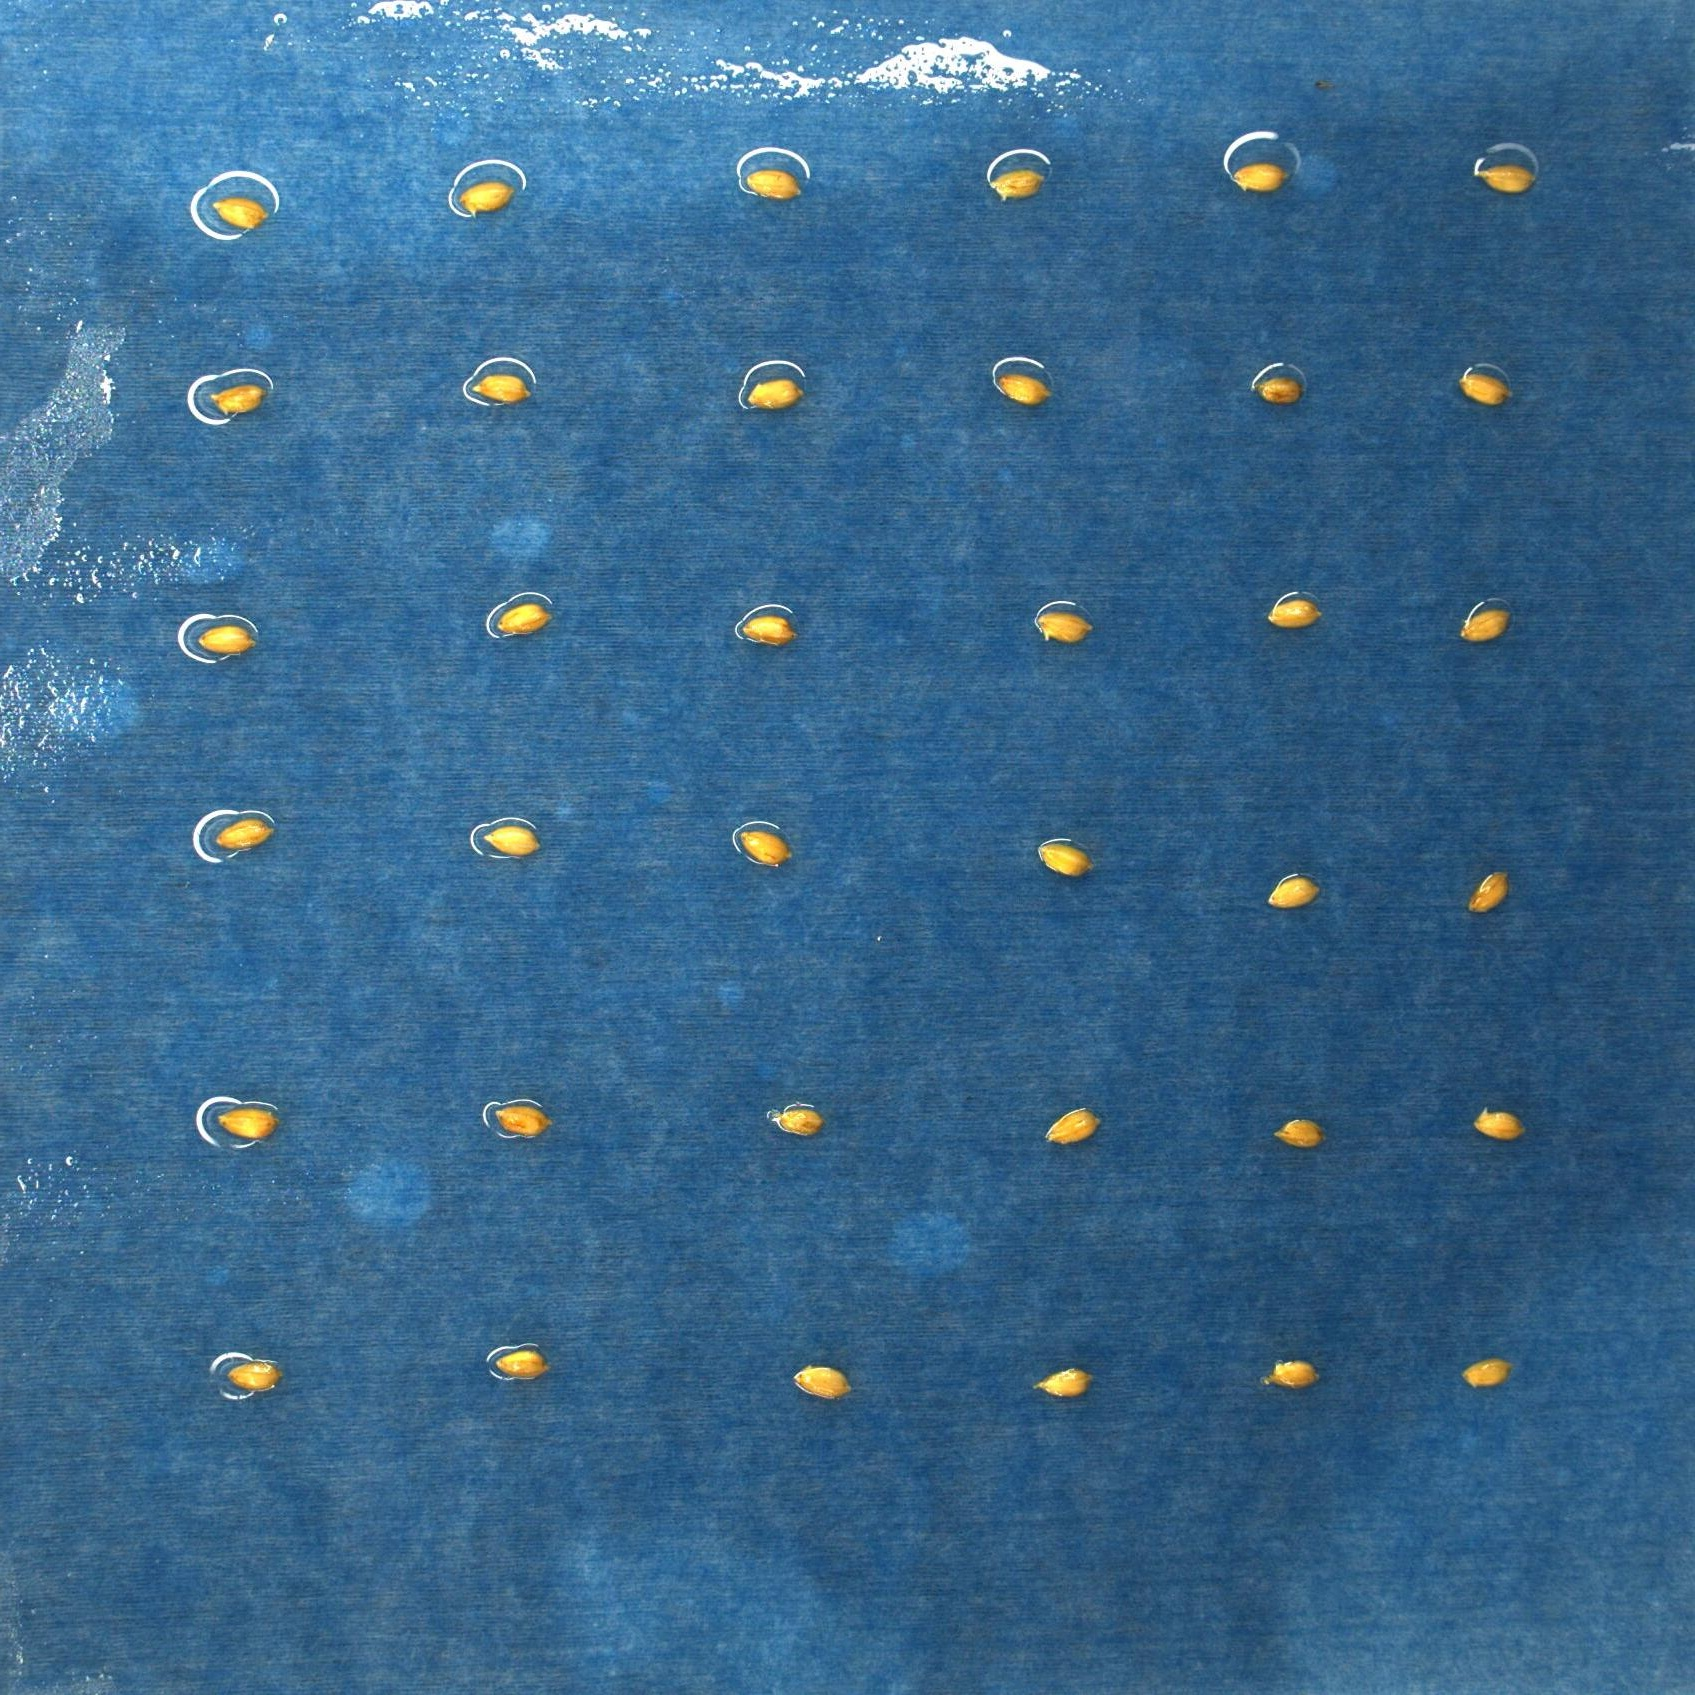not sprout: (1045, 1105, 1104, 1146), (458, 179, 515, 219), (217, 1107, 282, 1141), (793, 1364, 855, 1400), (1471, 1105, 1530, 1142), (470, 371, 534, 405), (225, 1357, 286, 1392), (197, 622, 259, 657), (739, 830, 795, 868), (1038, 841, 1096, 877), (1468, 869, 1510, 917), (747, 377, 806, 411), (1037, 610, 1093, 646), (1034, 1367, 1097, 1399), (997, 373, 1057, 405), (216, 816, 276, 849), (1268, 874, 1321, 911), (1260, 1360, 1322, 1391), (210, 382, 269, 414), (497, 601, 553, 635), (1458, 373, 1513, 407), (1475, 163, 1538, 192), (484, 826, 542, 858), (497, 1107, 554, 1139), (1461, 608, 1515, 643), (740, 615, 799, 646), (495, 1349, 554, 1380), (1271, 1119, 1330, 1150), (989, 171, 1049, 200), (747, 169, 804, 200), (1461, 1357, 1518, 1388), (1232, 161, 1290, 192), (1267, 598, 1322, 629), (773, 1107, 827, 1138), (213, 196, 269, 225), (1253, 376, 1305, 405)
